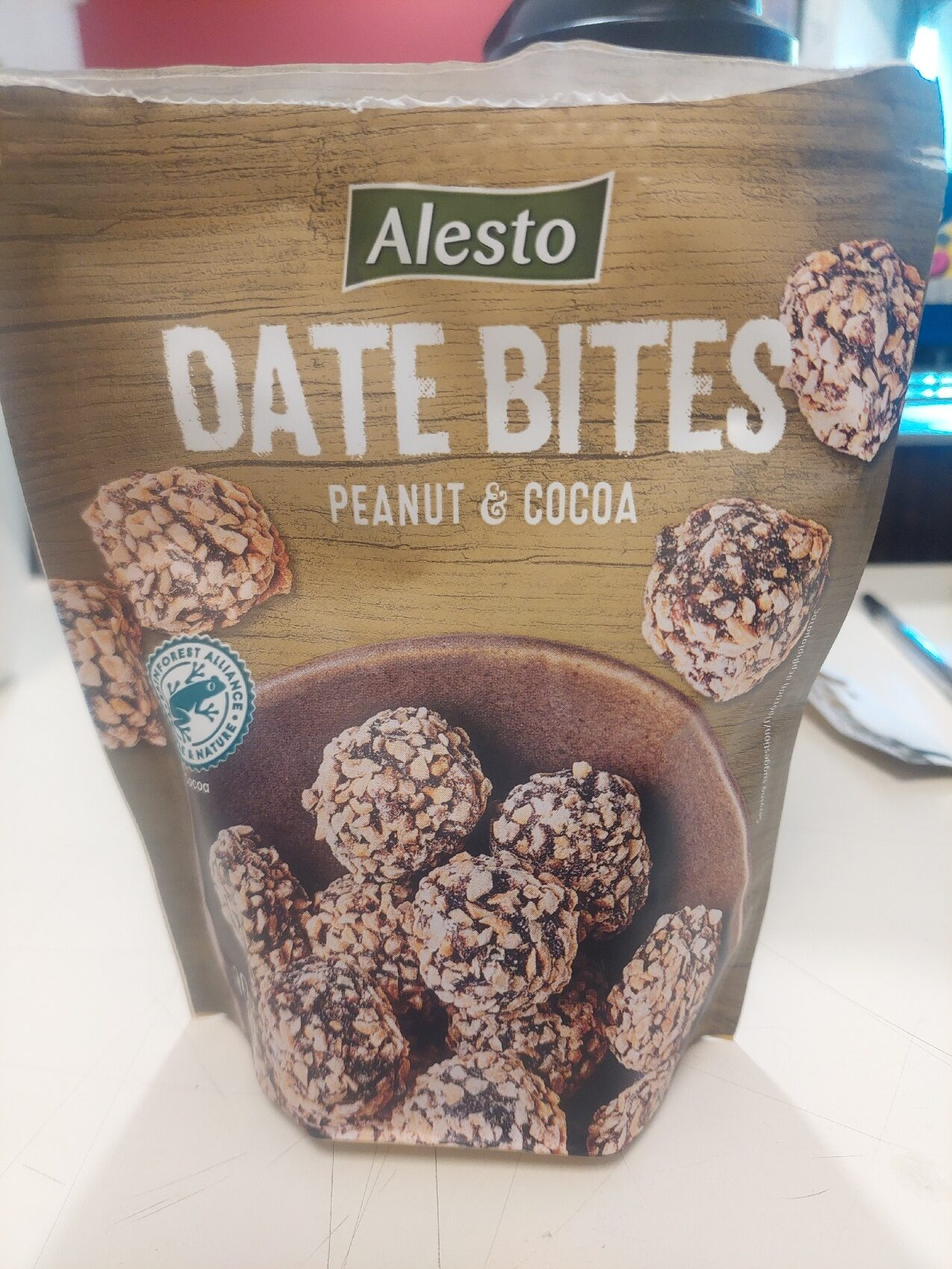DATE BITES PEANUT & COCOA: (48, 63, 904, 1206)
